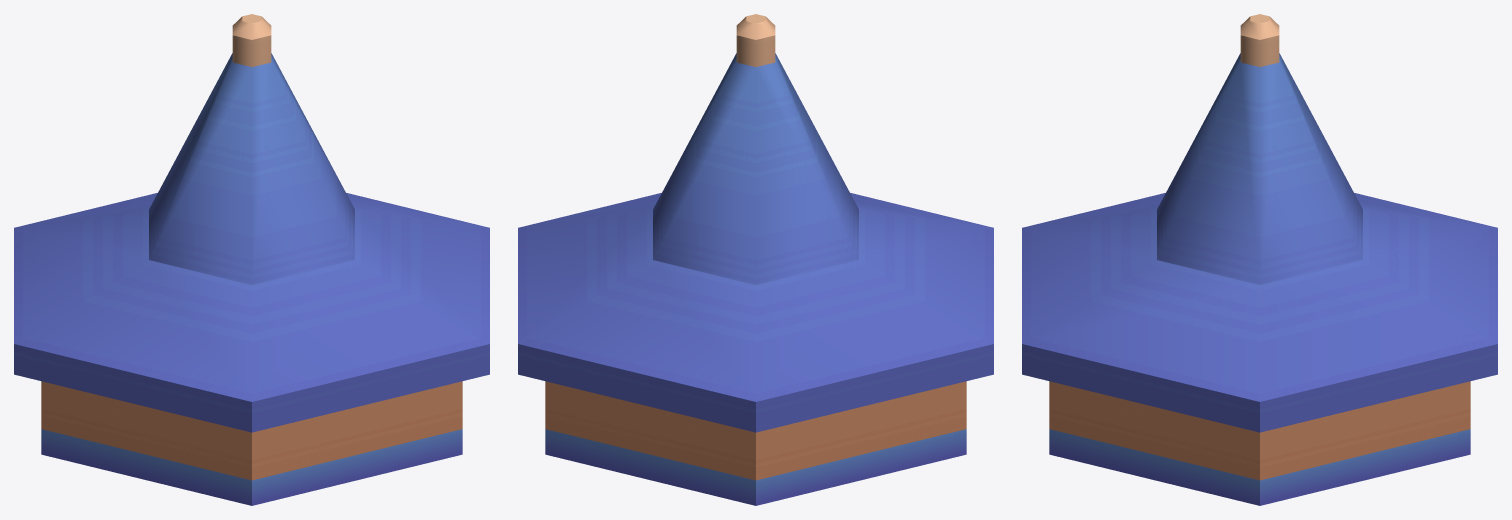
The model's file is tower-hexagon-roof-secondary.glb.
3 renders of one model, left to right at view 1: azimuth 30°, elevation 25°; view 2: azimuth 150°, elevation 25°; view 3: azimuth 270°, elevation 25°, orthographic.
Visible parts, largest first — view 1: tower-hexagon-roof-secondary; view 2: tower-hexagon-roof-secondary; view 3: tower-hexagon-roof-secondary.
Boxes of the visible parts, bbox=[...] form: tower-hexagon-roof-secondary: bbox=[14, 14, 489, 505]; tower-hexagon-roof-secondary: bbox=[518, 14, 993, 505]; tower-hexagon-roof-secondary: bbox=[1022, 14, 1497, 505].
Bounding box in the file's own units: 0.9763 × 0.7537 × 0.8455.
1 material, 1 textured.
